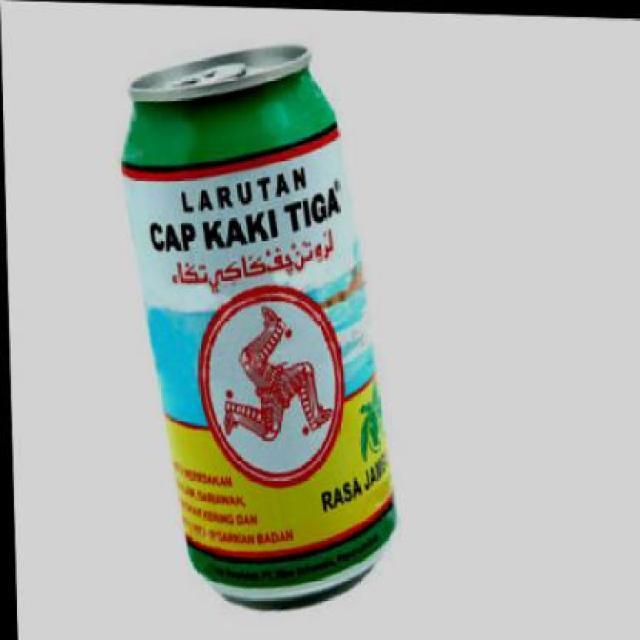Metal: (116, 39, 402, 617)
